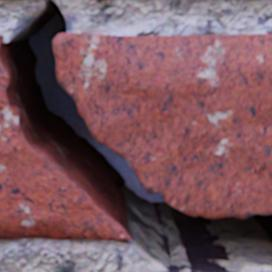brick: (189, 270, 218, 271), (163, 270, 181, 271)
broken_brick: (52, 32, 271, 217), (0, 55, 130, 239), (0, 35, 3, 47)
crack: (0, 0, 271, 271)
